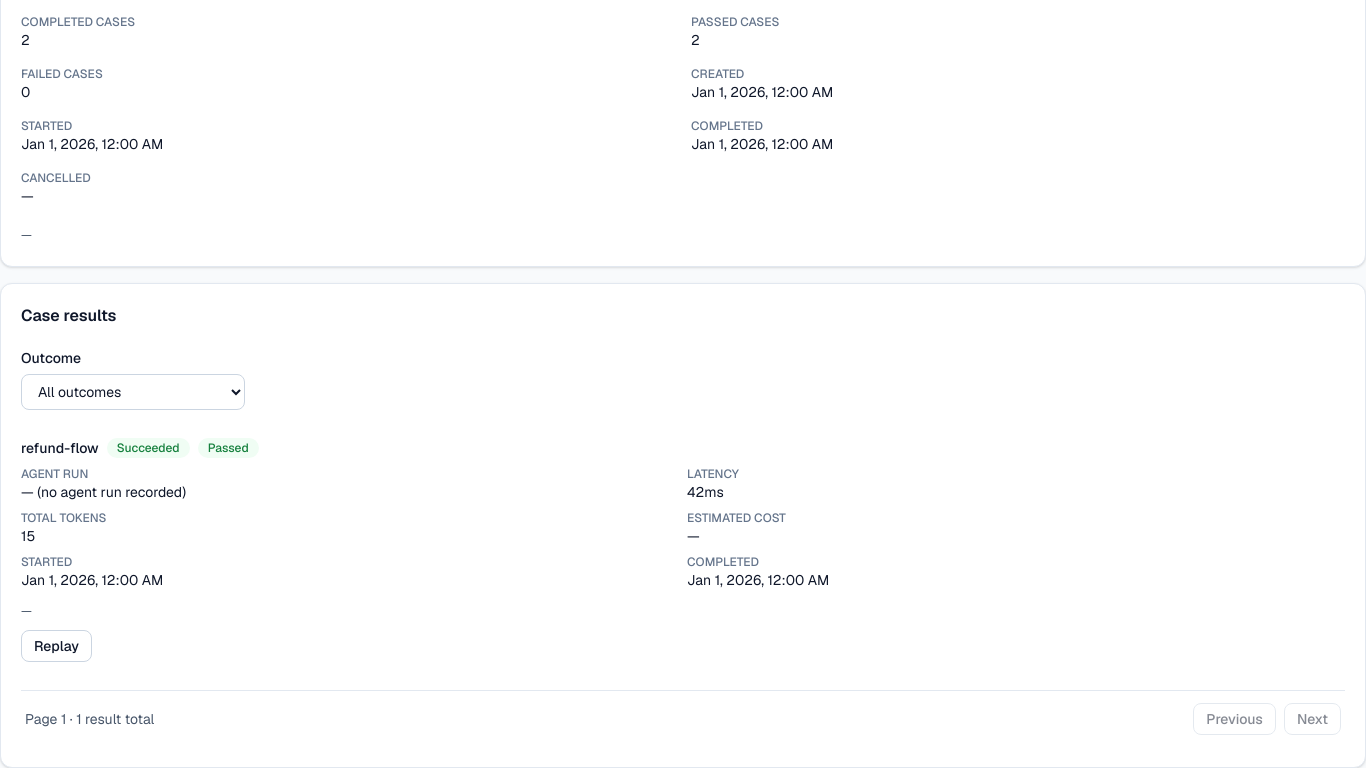
Test: Replay Result (Phase 23 Chunk 3) › replays a terminal result and shows the real queued confirmation
This screenshot has width=1366, height=768.
(page scrolled)
expect the text "refund-flow" is shown: met, box [21,438,99,458]
Click the button "Replay" at (56, 646), box [21,630,92,662]
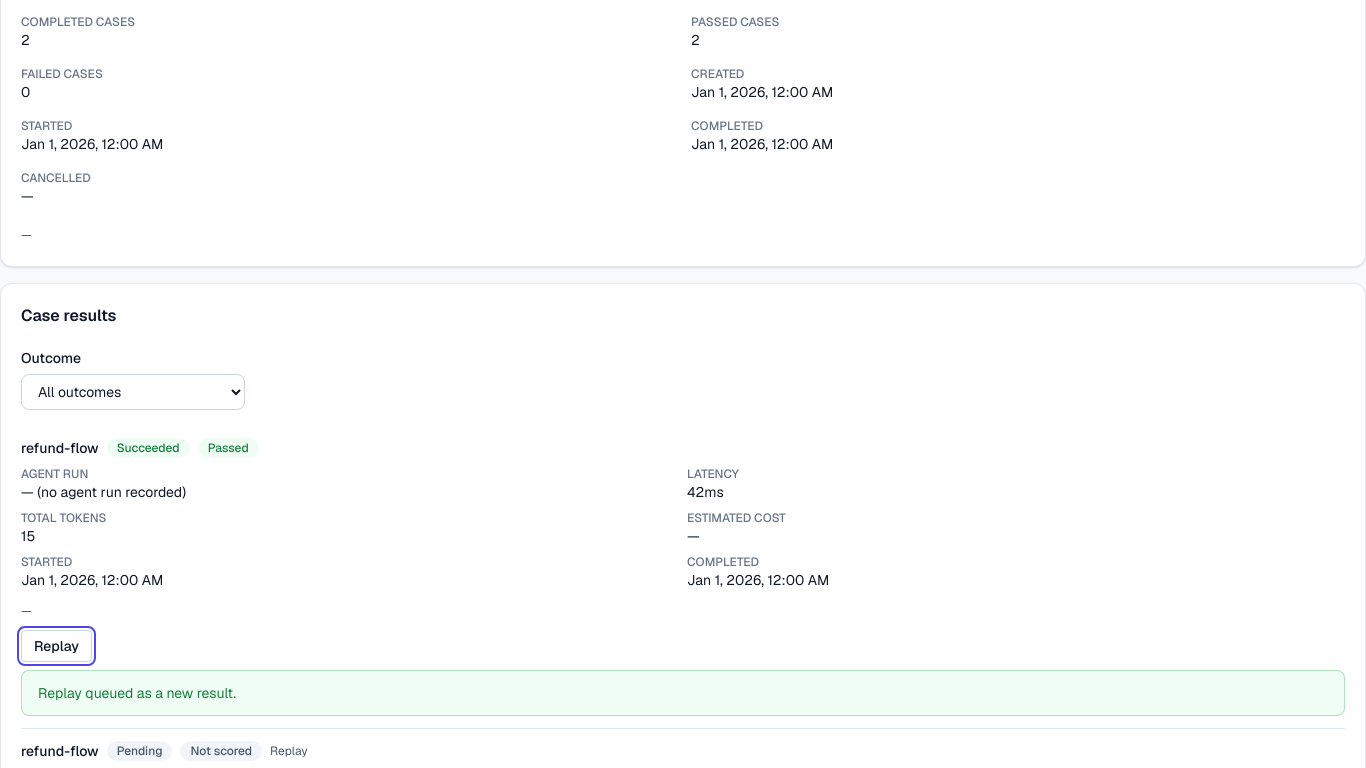
expect the text "Replay queued as a new result." is shown: met, box [38,684,236,702]
